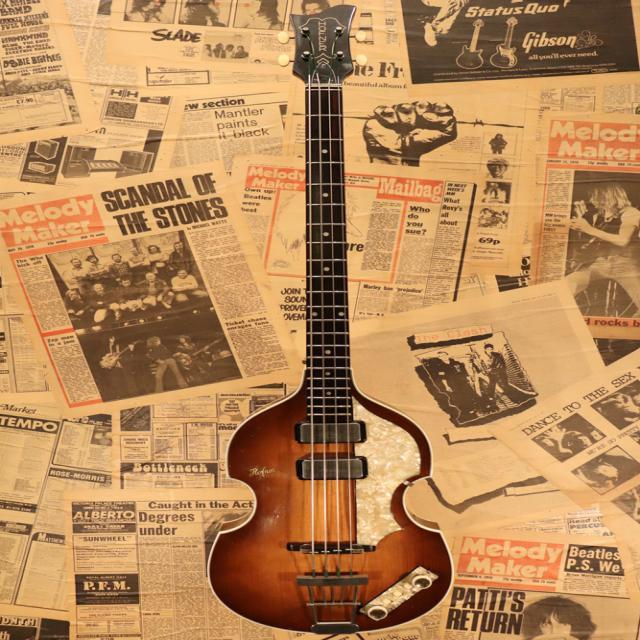bass: (209, 5, 451, 634)
